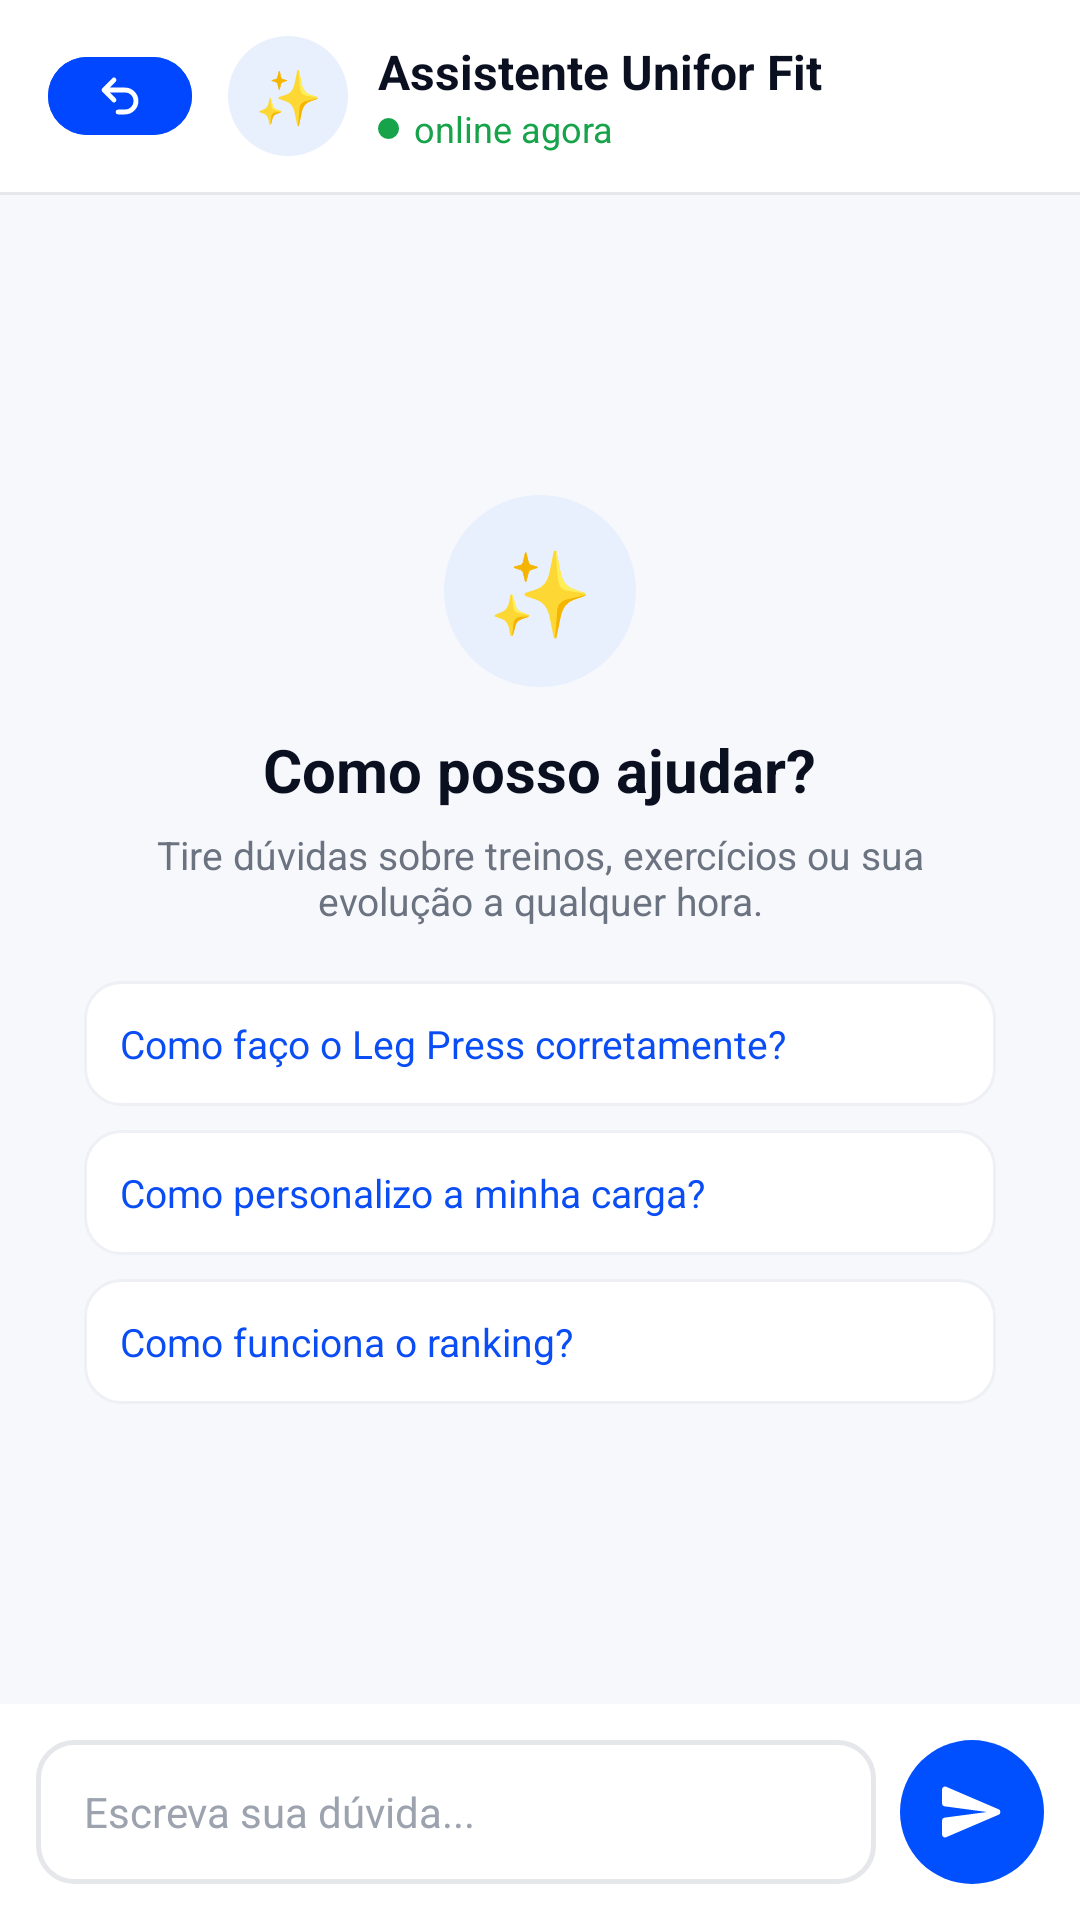

Where icons sit on this 1080*1920 app screen, as [x1, y1, x2, y2]:
Enviar mensagem: [900, 1740, 1044, 1884]
Voltar: [48, 57, 192, 135]
